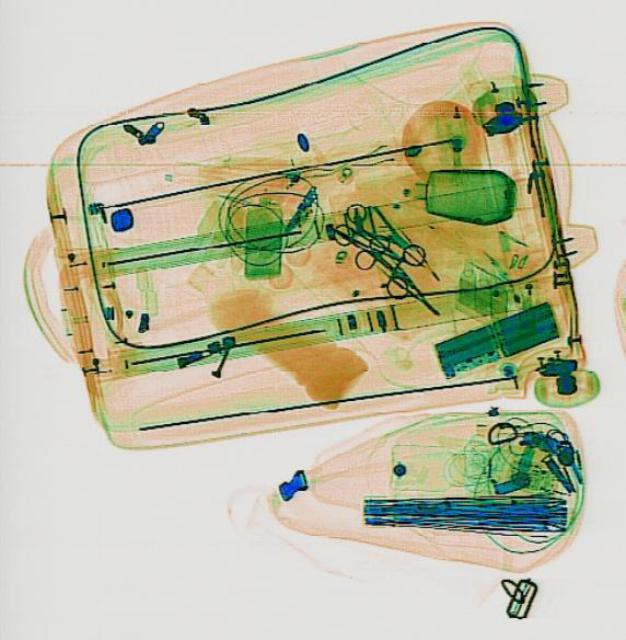Scissors: (313, 202, 433, 300), (345, 228, 454, 330), (323, 200, 408, 272)
